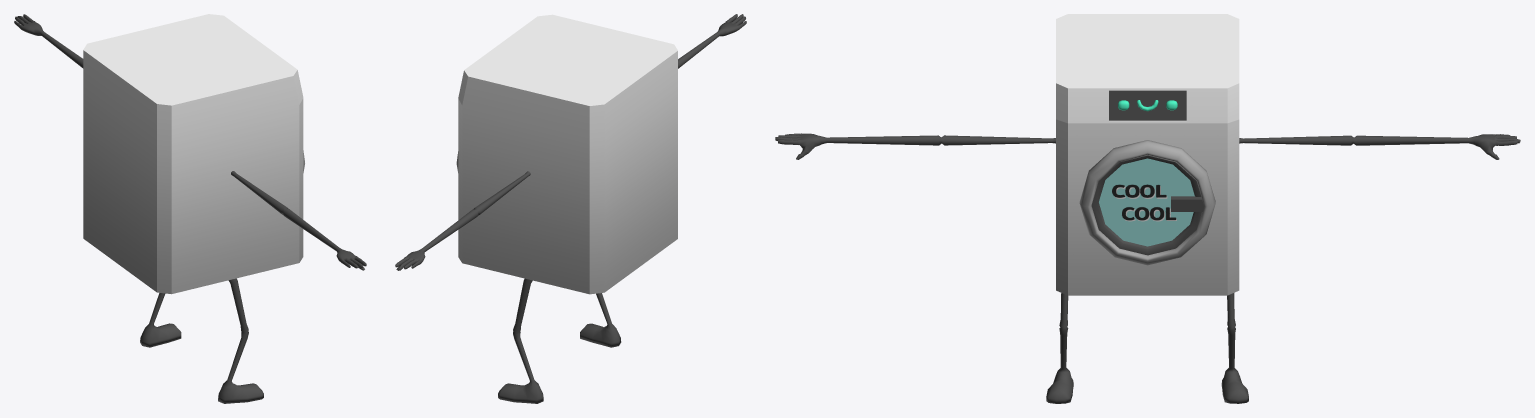
Rendered from Washing Machine Character.glb.
3 views of the same model, side by side, from view 1: azimuth 30°, elevation 25°; view 2: azimuth 150°, elevation 25°; view 3: azimuth 270°, elevation 25° (orthographic). The views are drawn at different scales.
Visible parts, largest first — view 1: _100Avatars_192_CoolWashingMachine; view 2: _100Avatars_192_CoolWashingMachine; view 3: _100Avatars_192_CoolWashingMachine.
Part boxes in pixels (bbox=[...]): _100Avatars_192_CoolWashingMachine: bbox=[14, 14, 366, 403]; _100Avatars_192_CoolWashingMachine: bbox=[395, 14, 746, 403]; _100Avatars_192_CoolWashingMachine: bbox=[775, 14, 1520, 403].
Bounding box in the file's own units: 1.98 × 3.75 × 7.52.
1 material, 1 textured.
